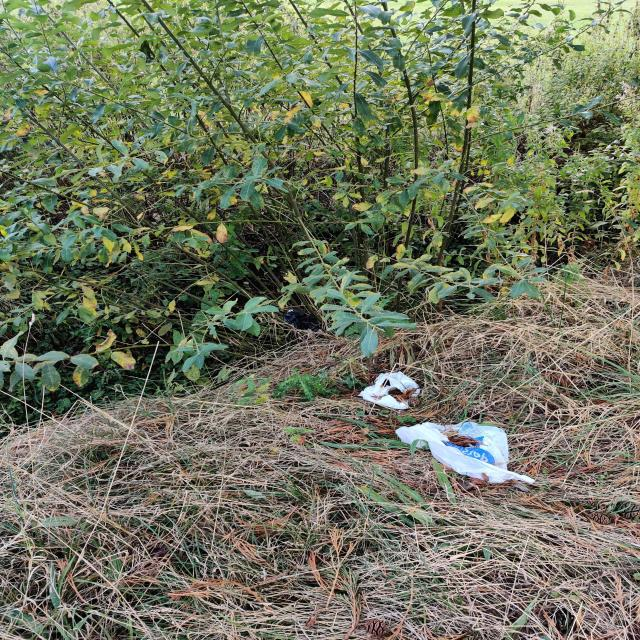litter: (388, 423, 536, 488), (349, 368, 431, 410)
